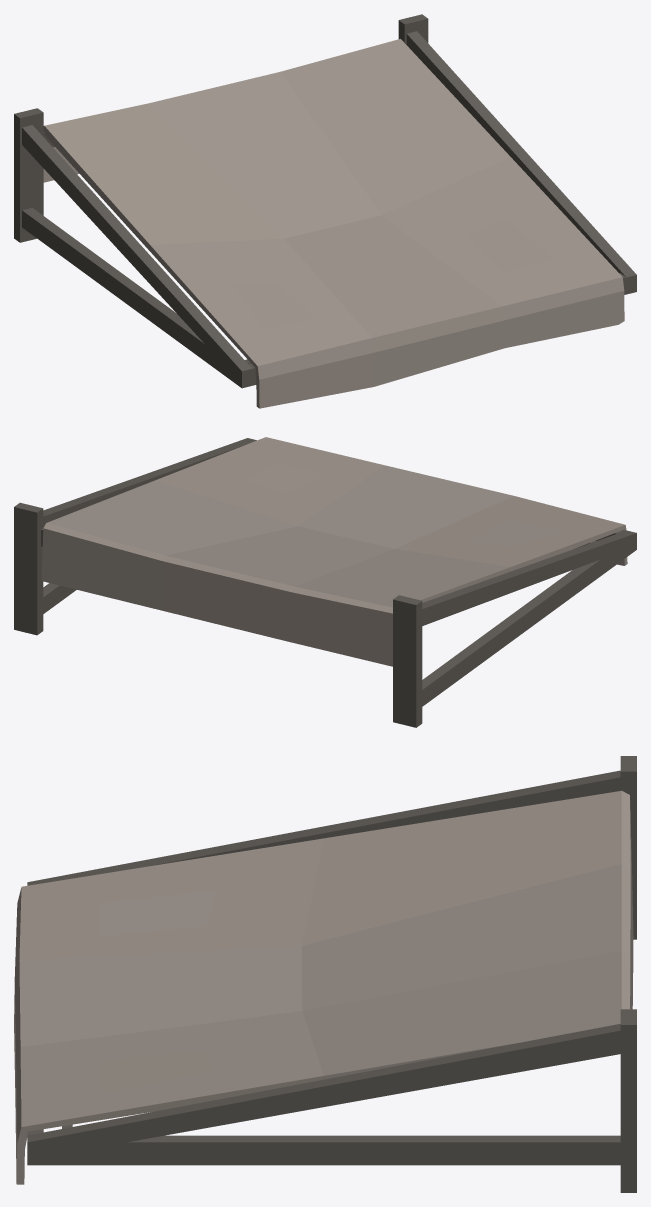
The model's file is SM_Bld_Shops_ClothCover_Small_01.fbx.
The picture shows the model from 3 angles, top to bottom: view 1: azimuth 30°, elevation 25°; view 2: azimuth 150°, elevation 25°; view 3: azimuth 270°, elevation 25°; orthographic projection. The views are drawn at different scales.
Visible parts, largest first — view 1: SM_Bld_Shops_ClothCover_Small_01; view 2: SM_Bld_Shops_ClothCover_Small_01; view 3: SM_Bld_Shops_ClothCover_Small_01.
Part boxes in pixels (left/top/right/bottom): SM_Bld_Shops_ClothCover_Small_01: left=14, top=14, right=636, bottom=408; SM_Bld_Shops_ClothCover_Small_01: left=14, top=437, right=636, bottom=727; SM_Bld_Shops_ClothCover_Small_01: left=14, top=756, right=636, bottom=1192.
Bounding box in the file's own units: 296 × 93.82 × 289.
